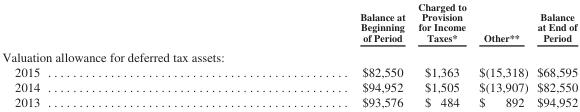table: (1, 0, 577, 108)
table column: (199, 0, 410, 108), (1, 0, 199, 108), (410, 0, 472, 108), (472, 0, 531, 108), (531, 0, 577, 108)
table column header: (1, 0, 577, 46)
table projected row header: (1, 46, 577, 63)
table row: (1, 0, 577, 46), (1, 46, 577, 63), (1, 63, 577, 79), (1, 79, 577, 94), (1, 94, 577, 108)
